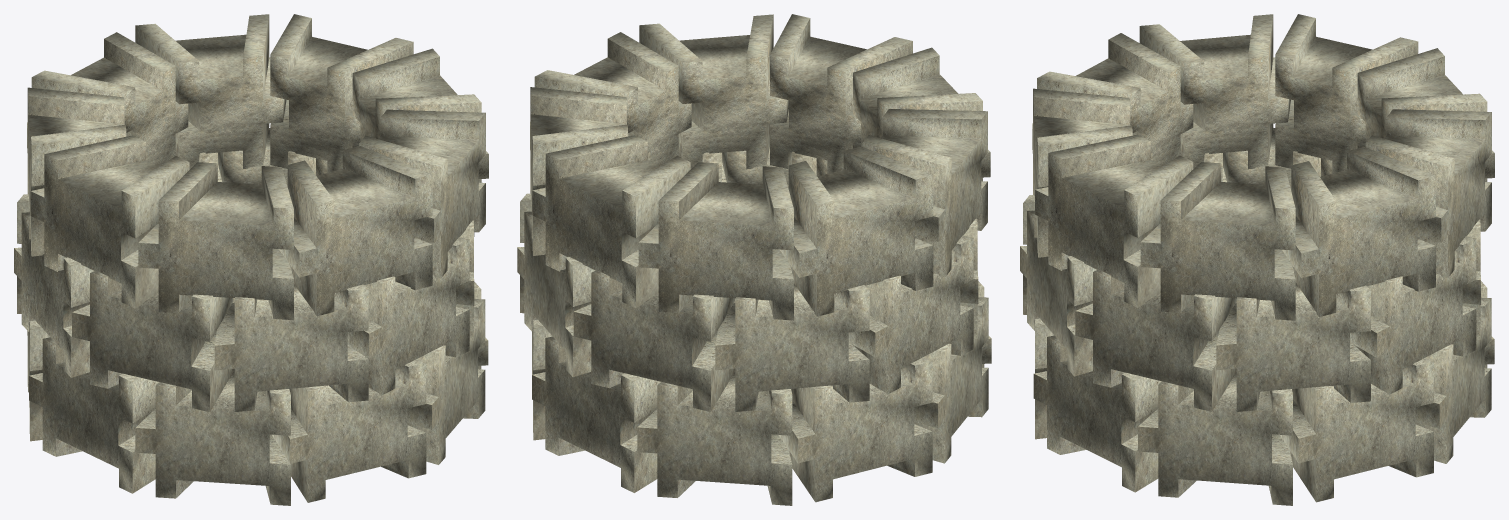
File: slagreef_obsea.glb
The picture shows the model from 3 angles, left to right: view 1: azimuth 30°, elevation 25°; view 2: azimuth 150°, elevation 25°; view 3: azimuth 270°, elevation 25°; orthographic projection.
Visible parts, largest first — view 1: Part Puzzle - no,round,edges (1).062, Part Puzzle - no,round,edges (1).061, Part Puzzle - no,round,edges (1).060, Part Puzzle - no,round,edges (1).035, Part Puzzle - no,round,edges (1).053, Part Puzzle - no,round,edges (1).057, Part Puzzle - no,round,edges (1).052, Part Puzzle - no,round,edges (1).027, Part Puzzle - no,round,edges (1).056, Part Puzzle - no,round,edges (1).054, Part Puzzle - no,round,edges (1).034, Part Puzzle - no,round,edges (1).045 (+9 smaller); view 2: Part Puzzle - no,round,edges (1).059, Part Puzzle - no,round,edges (1).058, Part Puzzle - no,round,edges (1).057, Part Puzzle - no,round,edges (1).032, Part Puzzle - no,round,edges (1).050, Part Puzzle - no,round,edges (1).033, Part Puzzle - no,round,edges (1).054, Part Puzzle - no,round,edges (1).049, Part Puzzle - no,round,edges (1).062, Part Puzzle - no,round,edges (1).060, Part Puzzle - no,round,edges (1).031, Part Puzzle - no,round,edges (1).051 (+9 smaller); view 3: Part Puzzle - no,round,edges (1).056, Part Puzzle - no,round,edges (1).055, Part Puzzle - no,round,edges (1).054, Part Puzzle - no,round,edges (1).029, Part Puzzle - no,round,edges (1).047, Part Puzzle - no,round,edges (1).060, Part Puzzle - no,round,edges (1).030, Part Puzzle - no,round,edges (1).046, Part Puzzle - no,round,edges (1).059, Part Puzzle - no,round,edges (1).057, Part Puzzle - no,round,edges (1).028, Part Puzzle - no,round,edges (1).048 (+8 smaller).
Part boxes in pixels (left/top/right/bottom): Part Puzzle - no,round,edges (1).062: left=279, top=146, right=432, bottom=316; Part Puzzle - no,round,edges (1).061: left=138, top=162, right=293, bottom=320; Part Puzzle - no,round,edges (1).060: left=30, top=135, right=189, bottom=308; Part Puzzle - no,round,edges (1).035: left=135, top=369, right=290, bottom=505; Part Puzzle - no,round,edges (1).053: left=214, top=284, right=368, bottom=411; Part Puzzle - no,round,edges (1).057: left=135, top=14, right=286, bottom=169; Part Puzzle - no,round,edges (1).052: left=72, top=270, right=233, bottom=411; Part Puzzle - no,round,edges (1).027: left=272, top=359, right=426, bottom=502; Part Puzzle - no,round,edges (1).056: left=270, top=14, right=413, bottom=172; Part Puzzle - no,round,edges (1).054: left=359, top=109, right=485, bottom=278; Part Puzzle - no,round,edges (1).034: left=29, top=337, right=159, bottom=493; Part Puzzle - no,round,edges (1).045: left=347, top=237, right=469, bottom=394; Part Puzzle - no,round,edges (1).059: left=779, top=146, right=933, bottom=316; Part Puzzle - no,round,edges (1).058: left=638, top=162, right=793, bottom=320; Part Puzzle - no,round,edges (1).057: left=532, top=135, right=690, bottom=308; Part Puzzle - no,round,edges (1).032: left=637, top=369, right=792, bottom=505; Part Puzzle - no,round,edges (1).050: left=715, top=284, right=869, bottom=411; Part Puzzle - no,round,edges (1).033: left=778, top=357, right=932, bottom=502; Part Puzzle - no,round,edges (1).054: left=639, top=14, right=788, bottom=169; Part Puzzle - no,round,edges (1).049: left=573, top=270, right=734, bottom=411; Part Puzzle - no,round,edges (1).062: left=770, top=14, right=912, bottom=173; Part Puzzle - no,round,edges (1).060: left=862, top=109, right=987, bottom=277; Part Puzzle - no,round,edges (1).031: left=532, top=336, right=660, bottom=492; Part Puzzle - no,round,edges (1).051: left=848, top=235, right=973, bottom=393; Part Puzzle - no,round,edges (1).056: left=1282, top=147, right=1435, bottom=316; Part Puzzle - no,round,edges (1).055: left=1140, top=162, right=1295, bottom=320; Part Puzzle - no,round,edges (1).054: left=1035, top=134, right=1193, bottom=307; Part Puzzle - no,round,edges (1).029: left=1138, top=372, right=1292, bottom=505; Part Puzzle - no,round,edges (1).047: left=1216, top=282, right=1370, bottom=411; Part Puzzle - no,round,edges (1).060: left=1139, top=14, right=1290, bottom=169; Part Puzzle - no,round,edges (1).030: left=1280, top=358, right=1433, bottom=502; Part Puzzle - no,round,edges (1).046: left=1075, top=269, right=1236, bottom=411; Part Puzzle - no,round,edges (1).059: left=1275, top=14, right=1418, bottom=173; Part Puzzle - no,round,edges (1).057: left=1365, top=109, right=1491, bottom=277; Part Puzzle - no,round,edges (1).028: left=1033, top=335, right=1161, bottom=492; Part Puzzle - no,round,edges (1).048: left=1350, top=236, right=1476, bottom=394.
Bounding box in the file's own units: 1.79 × 1.25 × 1.81.
3 materials, 3 textured.
